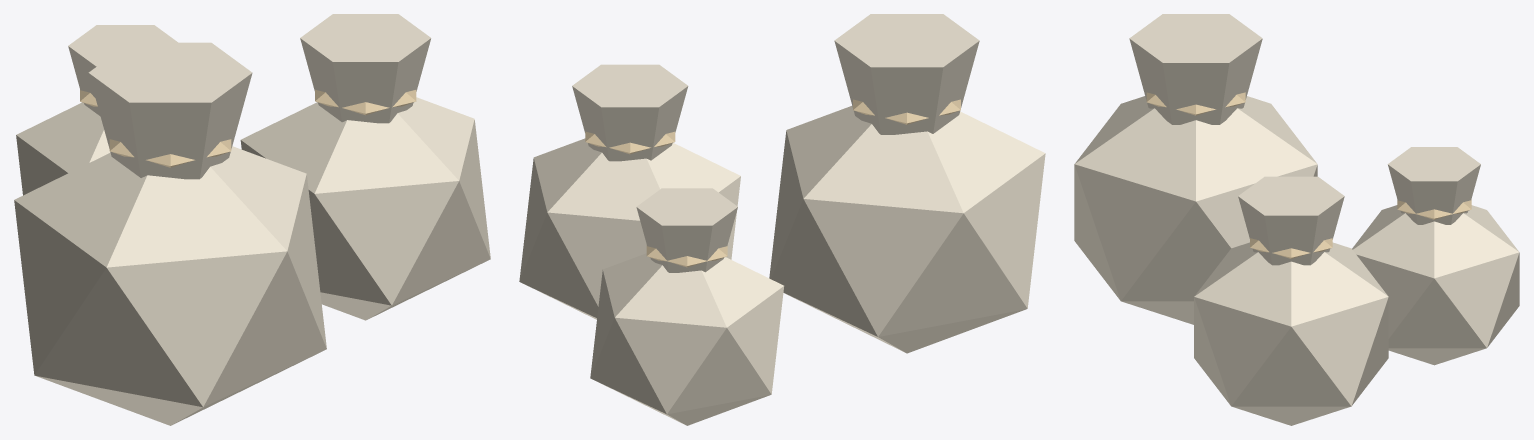
Rendered from SM_Money_Bags.glb.
The picture shows the model from 3 angles, left to right: view 1: azimuth 30°, elevation 25°; view 2: azimuth 150°, elevation 25°; view 3: azimuth 270°, elevation 25°; orthographic projection. The views are drawn at different scales.
Parts seen in each view (by area): view 1: SM_Money_Bags; view 2: SM_Money_Bags; view 3: SM_Money_Bags.
Boxes of the visible parts, x1,y1,x2,y2 form: SM_Money_Bags: [14, 14, 490, 425]; SM_Money_Bags: [519, 14, 1045, 425]; SM_Money_Bags: [1074, 14, 1519, 425].
Size of the model in its own units: 0.4915 by 0.3325 by 0.4669.
